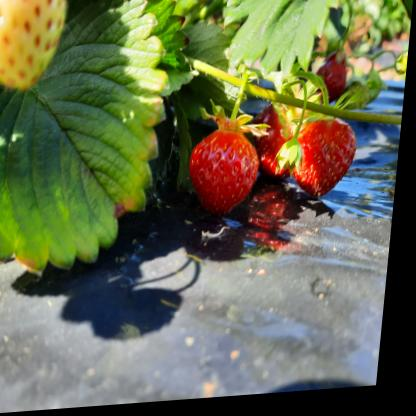ripe: (183, 127, 264, 219), (297, 119, 359, 198), (255, 102, 309, 180), (322, 62, 354, 103)
